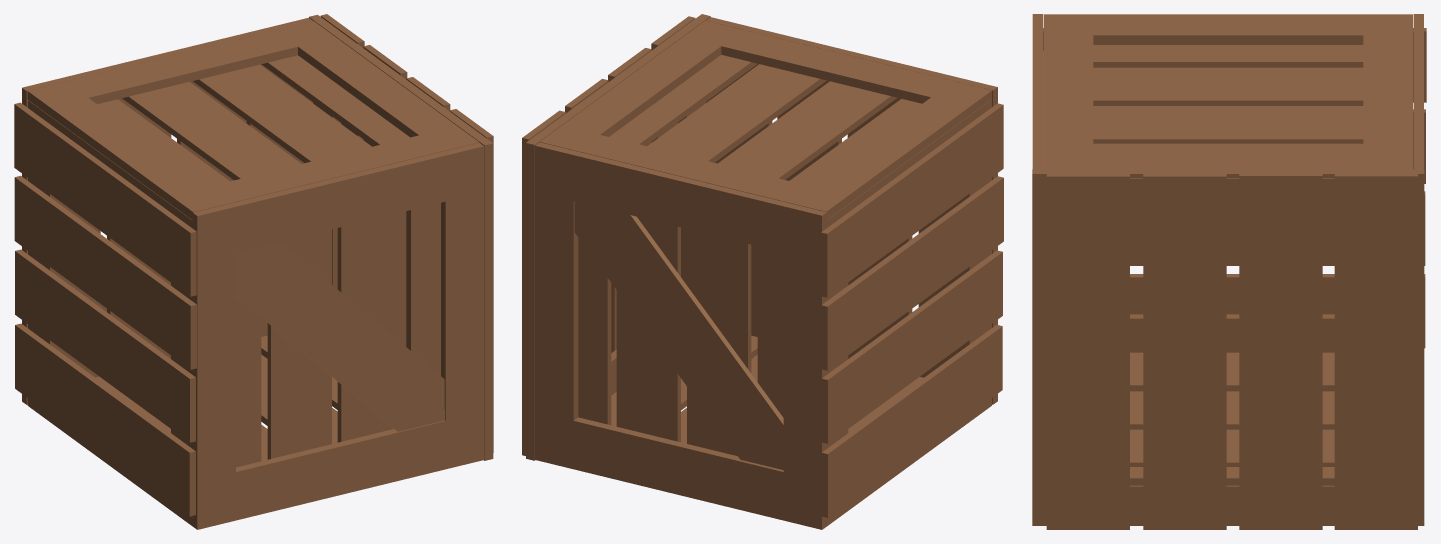
The model's file is woodbox.fbx.
3 renders of one model, left to right at view 1: azimuth 30°, elevation 25°; view 2: azimuth 150°, elevation 25°; view 3: azimuth 270°, elevation 25°, orthographic. The views are drawn at different scales.
Parts seen in each view (by area): view 1: Cube.016, Cube.030, Cube.017; view 2: Cube.016, Cube.030, Cube.017; view 3: Cube.017, Cube.016, Cube.030.
Boxes of the visible parts, x1=… form: Cube.016: x1=14, y1=17, x2=484, y2=529; Cube.030: x1=309, y1=14, x2=493, y2=460; Cube.017: x1=320, y1=14, x2=493, y2=452; Cube.016: x1=535, y1=17, x2=1003, y2=529; Cube.030: x1=526, y1=14, x2=710, y2=460; Cube.017: x1=522, y1=16, x2=695, y2=455; Cube.017: x1=1046, y1=172, x2=1417, y2=529; Cube.016: x1=1032, y1=14, x2=1426, y2=473; Cube.030: x1=1032, y1=169, x2=1424, y2=525.
Size of the model in its own units: 228 by 224 by 226.
